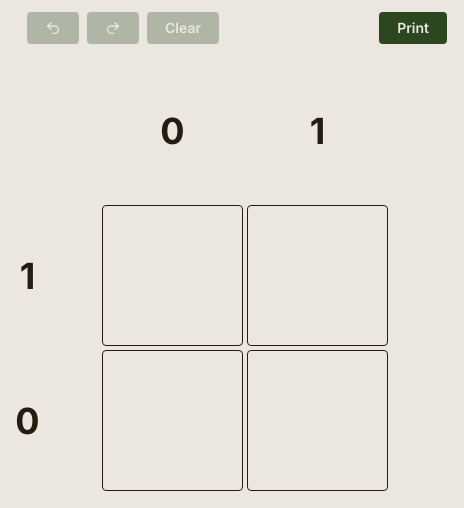
Test case: PlayGrid › cycles a blank cell through tent, dot, and blank on repeated clicks
The image size is (464, 508).
Click the element named "row 1, column 1" at point(172, 276), box [102, 205, 243, 346]
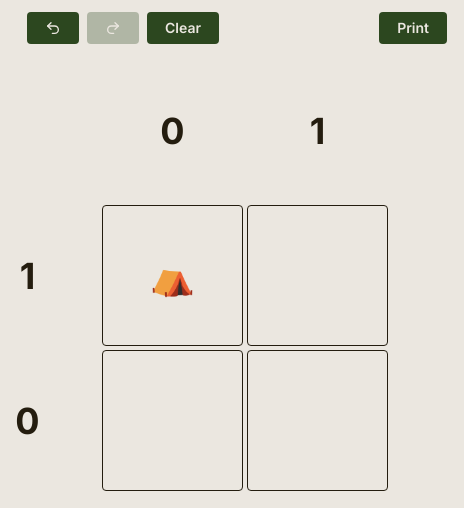
Check: the text named "row 1, column 1" reads "⛺", box [150, 254, 195, 298]
Click the text named "row 1, column 1" at point(172, 276), box [102, 205, 243, 346]
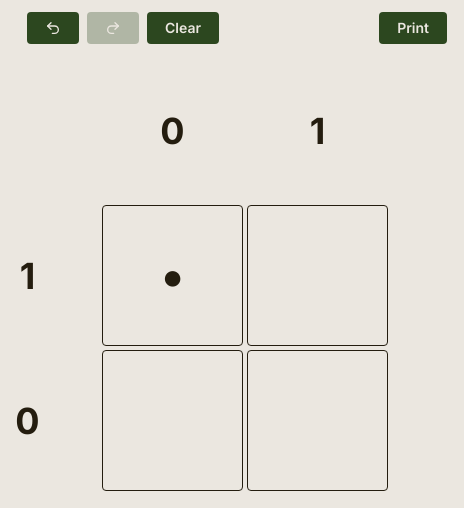
Check: the text named "row 1, column 1" reads "●", box [162, 254, 183, 298]
Click the text named "row 1, column 1" at point(172, 276), box [102, 205, 243, 346]
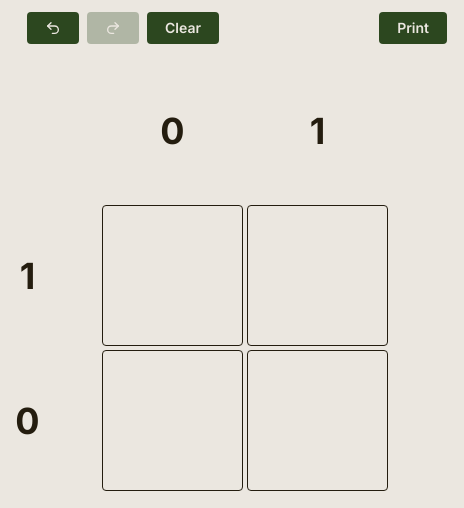
Check: the element named "row 1, column 1" is empty
Click the element named "row 1, column 1" at point(172, 276), box [102, 205, 243, 346]
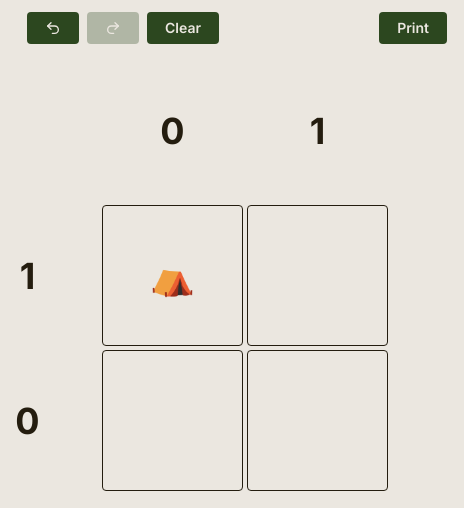
Check: the text named "row 1, column 1" reads "⛺", box [150, 254, 195, 298]
